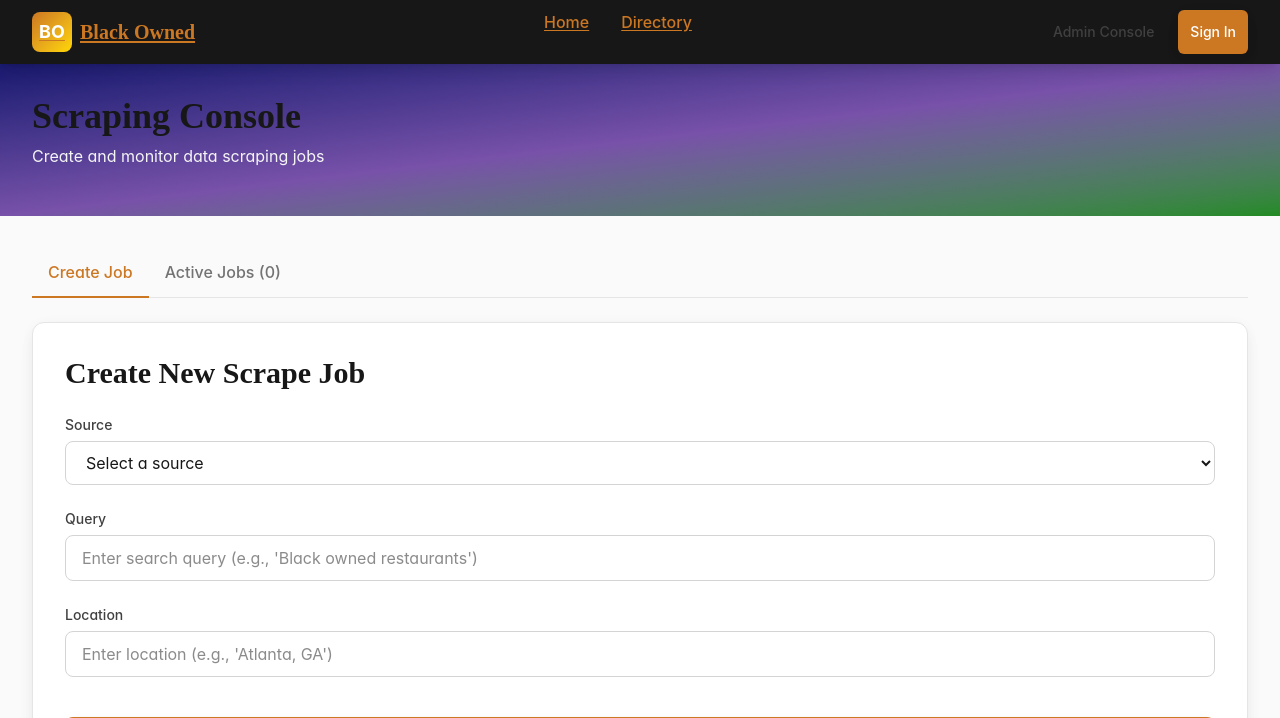
Test: ScrapeJobPage › shows query validation error when query is empty
Select "Google Maps" in the dropdown at {"x": 640, "y": 463}, box [65,441,1215,485]
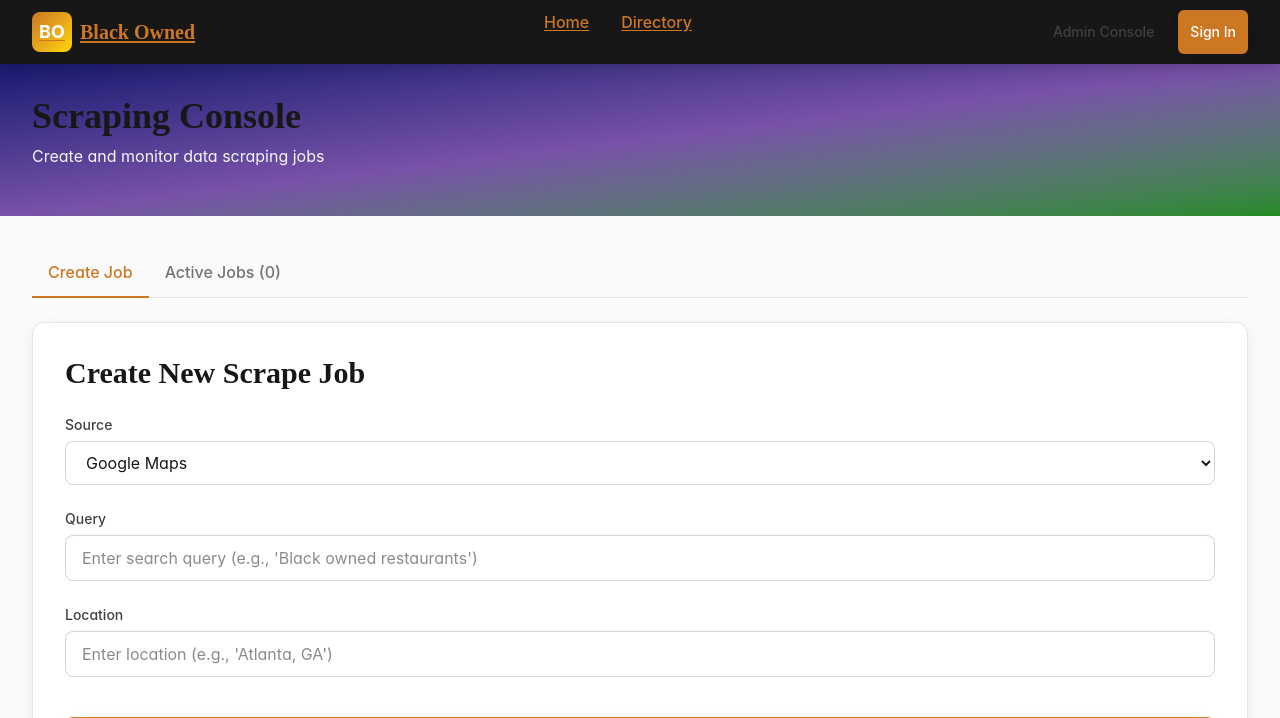
Type "test location" into the field with placeholder "Enter location (e.g., 'Atlanta, GA')".
click(640, 654); type("test location")  # box [65,631,1215,677]
(page scrolled)
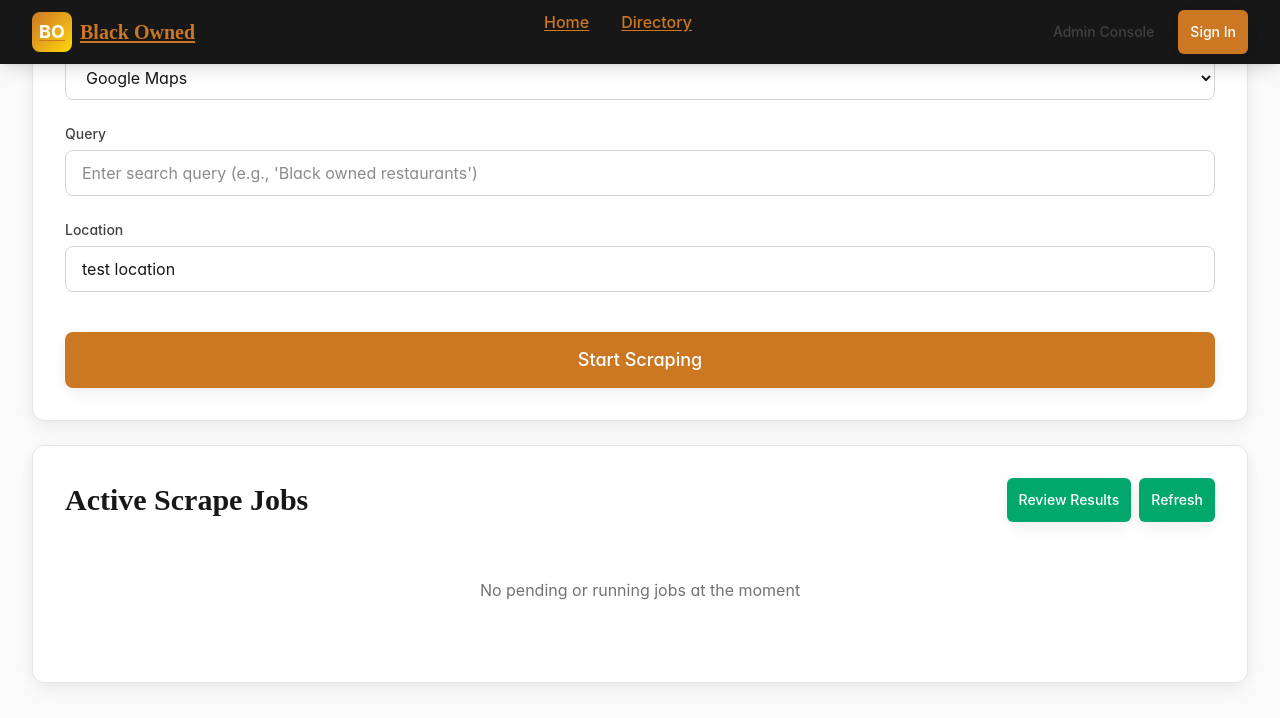
Click the button "Start Scraping".
click(640, 360)  # box [65,332,1215,388]
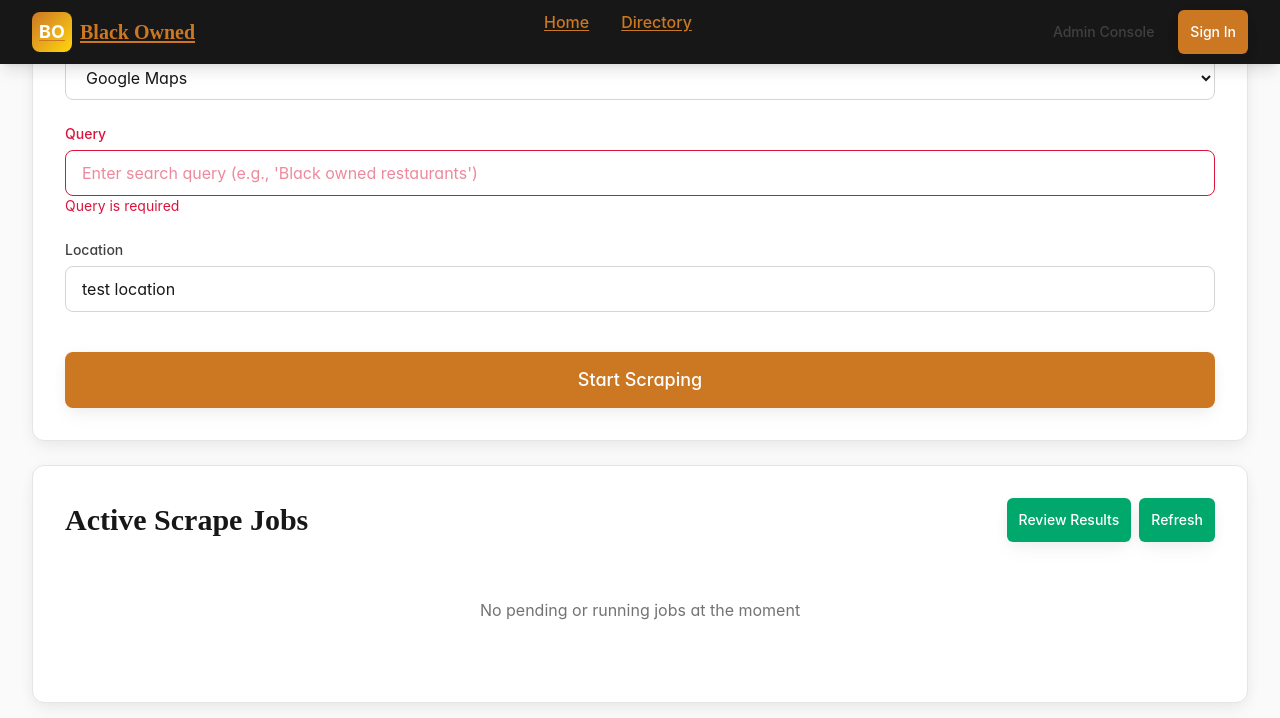
Check: the text "Query is required" is shown, box [65,197,179,214]
